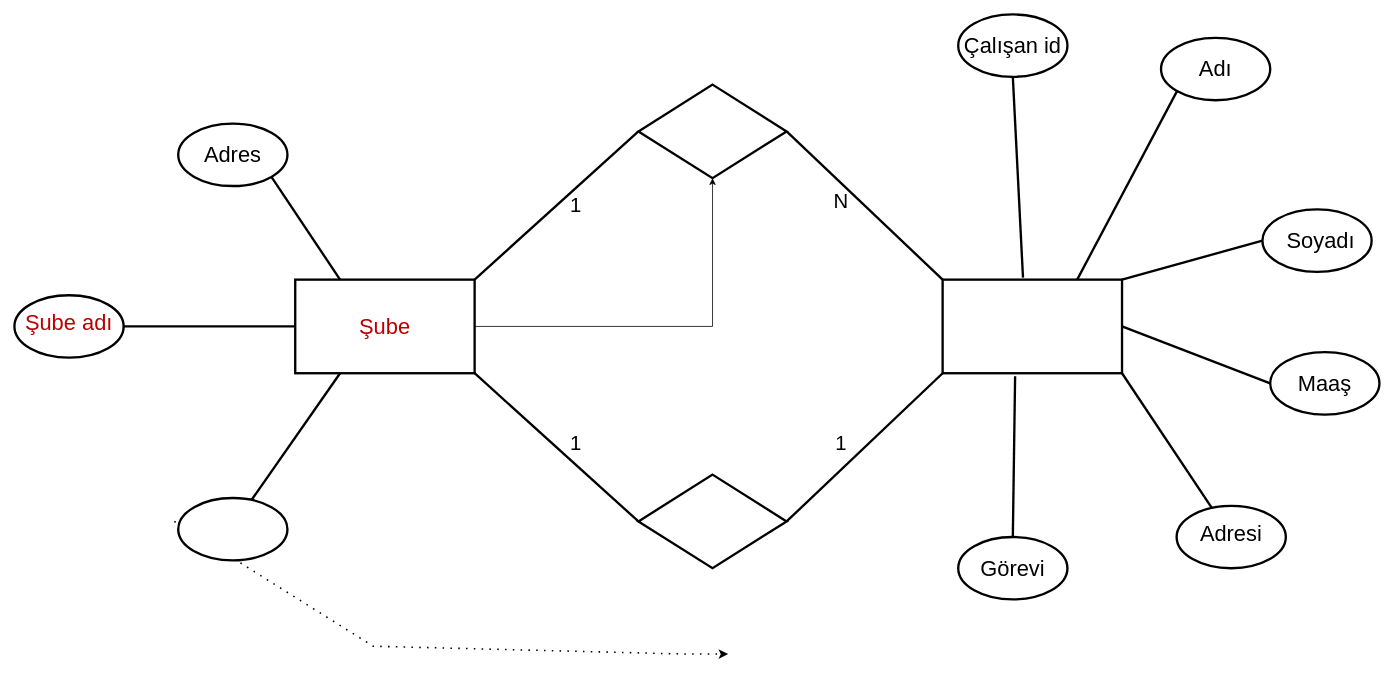
The diagram is 1394 pixels wide and 675 high, and some of its shapes have lost their labels. Each missing label, with the centre of its shape:
Yönetir: point (712, 521)
Çalışan: point (1032, 326)
Çalışır: point (712, 131)
Şube id: point (232, 528)
